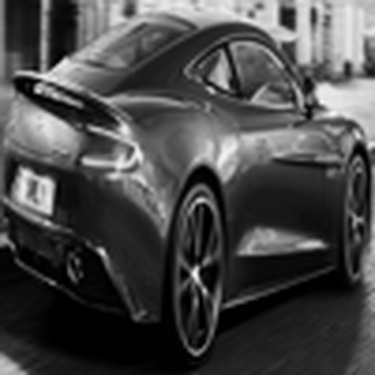car: (2, 4, 371, 373)
